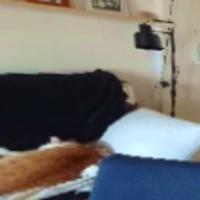asleep: (0, 134, 102, 197)
